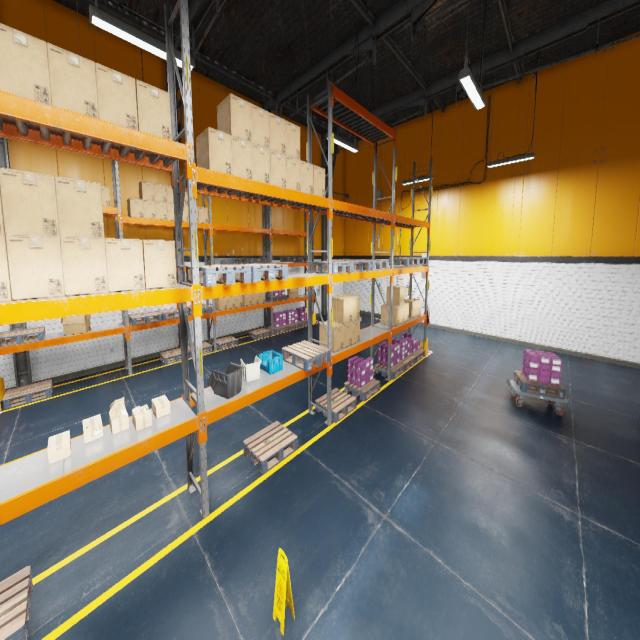box: (0, 22, 52, 105), (0, 167, 60, 237), (46, 42, 98, 119), (5, 236, 65, 300), (55, 176, 104, 238), (95, 62, 138, 130), (60, 237, 108, 296), (135, 79, 172, 140), (105, 238, 145, 292), (196, 127, 232, 175), (142, 240, 177, 288), (217, 93, 251, 142), (232, 136, 252, 180), (47, 430, 71, 465), (251, 103, 269, 149), (0, 235, 12, 302), (109, 396, 129, 434), (320, 321, 344, 352), (252, 143, 270, 184), (269, 112, 286, 154), (82, 414, 103, 444), (61, 314, 91, 335), (338, 293, 360, 321), (270, 150, 286, 188), (332, 295, 352, 324), (132, 404, 152, 432), (286, 120, 300, 160), (286, 155, 300, 191), (300, 160, 314, 194), (152, 395, 170, 418), (381, 304, 399, 326), (313, 164, 325, 197), (386, 285, 405, 305), (404, 299, 422, 317), (138, 180, 154, 200), (127, 198, 143, 218), (389, 304, 404, 324), (142, 200, 156, 218), (0, 186, 5, 236), (343, 321, 352, 348), (154, 183, 166, 202), (155, 201, 167, 220), (352, 319, 360, 344), (101, 186, 111, 206), (198, 206, 208, 224), (215, 297, 227, 310), (166, 184, 173, 203), (167, 202, 174, 220), (242, 294, 252, 306), (287, 288, 298, 298), (182, 204, 188, 222), (404, 302, 409, 322), (227, 296, 235, 308), (235, 295, 242, 308), (181, 191, 188, 204), (258, 292, 265, 304), (252, 292, 258, 304), (196, 206, 199, 222)
pallets: (243, 421, 297, 474), (0, 565, 32, 639), (282, 340, 330, 372), (2, 380, 53, 410), (514, 370, 565, 399), (315, 388, 356, 423), (186, 264, 251, 286), (230, 264, 288, 282), (0, 325, 45, 347), (344, 378, 380, 401), (128, 310, 162, 326), (312, 261, 353, 274), (374, 362, 405, 379), (159, 348, 190, 364), (188, 342, 212, 358), (212, 336, 238, 350), (158, 308, 188, 320), (338, 261, 370, 271), (186, 304, 212, 315), (248, 328, 271, 340), (399, 354, 416, 370), (363, 260, 387, 270), (410, 348, 425, 362), (389, 258, 418, 265), (401, 257, 427, 264), (268, 326, 288, 334), (208, 258, 232, 264), (266, 295, 288, 301), (286, 322, 301, 330), (232, 258, 249, 264), (298, 319, 312, 326), (249, 258, 267, 263), (280, 257, 300, 261), (298, 256, 308, 260), (176, 260, 176, 266)
